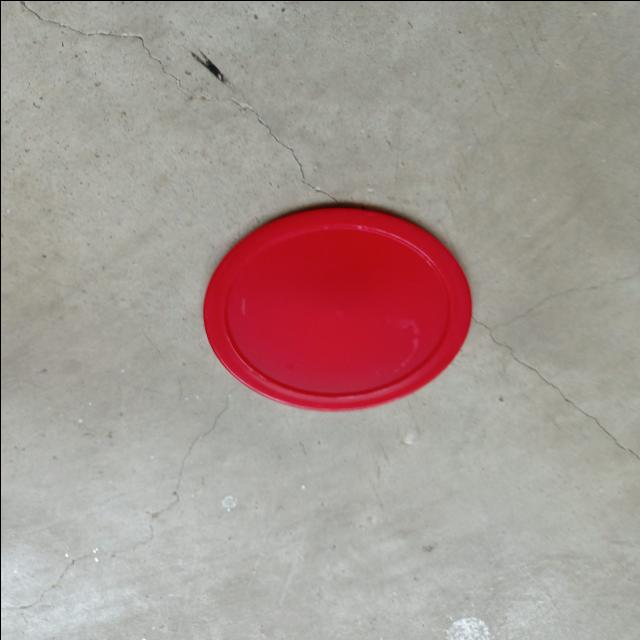chip: (197, 206, 473, 412)
